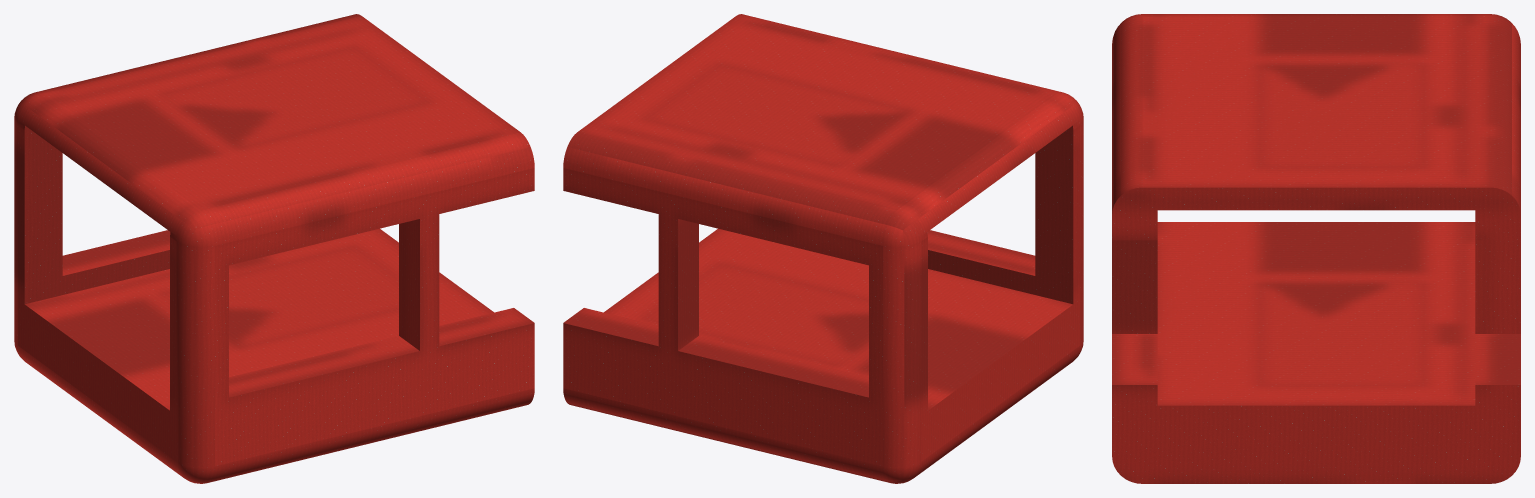
File: 11-rounded-red-lunch-tin-half-1.fbx
3 renders of one model, left to right at view 1: azimuth 30°, elevation 25°; view 2: azimuth 150°, elevation 25°; view 3: azimuth 270°, elevation 25°, orthographic. The views are drawn at different scales.
Visible parts, largest first — view 1: rounded-red-lunch-tin-half-1; view 2: rounded-red-lunch-tin-half-1; view 3: rounded-red-lunch-tin-half-1.
Part boxes in pixels (x1,y1,x2,y2): rounded-red-lunch-tin-half-1: (14, 14, 534, 483); rounded-red-lunch-tin-half-1: (563, 14, 1083, 483); rounded-red-lunch-tin-half-1: (1112, 14, 1520, 483).
Bounding box in the file's own units: 8500 × 6400 × 8000.
1 material, 1 textured.
